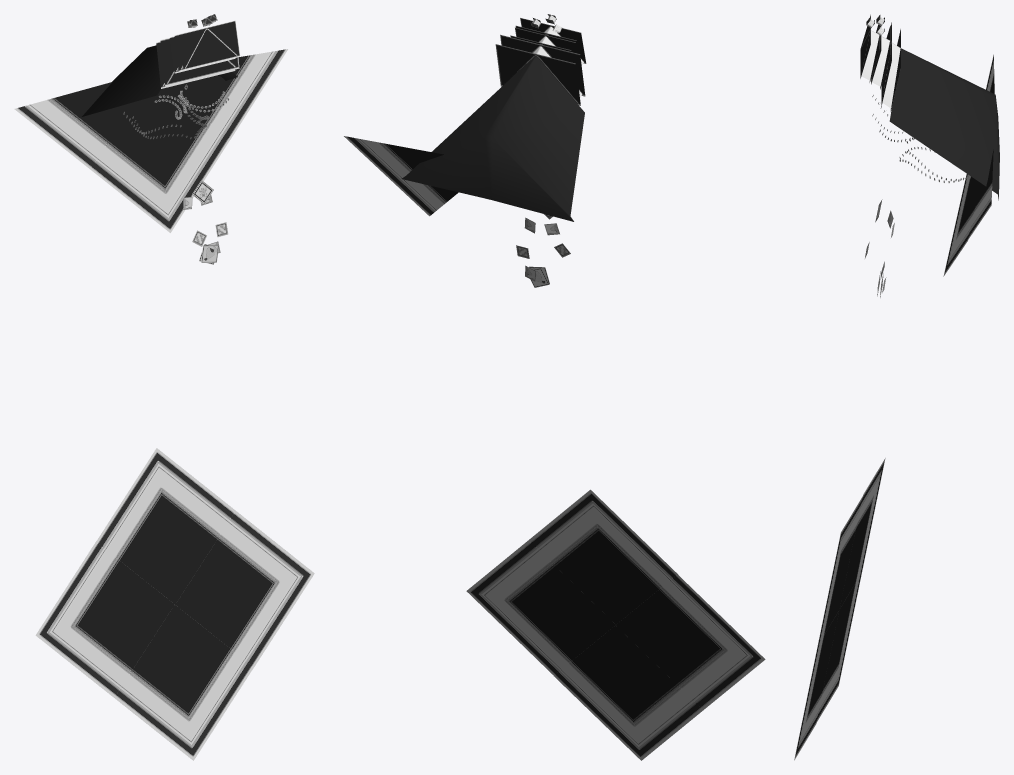
3 views of the same model, side by side, from view 1: azimuth 30°, elevation 25°; view 2: azimuth 150°, elevation 25°; view 3: azimuth 270°, elevation 25° (orthographic). The views are drawn at different scales.
Visible parts, largest first — view 1: bordo_01.1 (×2), bordo_01 (×2), bordo_01.3 (×2), bordo_01.2, nero, topgrande2, topgrande2.4; view 2: nero, bordo_01.3 (×2), bordo_01, bordo_01.1, bordo_01.2, topgrande2.5, topgrande2.4; view 3: nero, bordo_01.1 (×2), bordo_01.3 (×2), bordo_01.2, bordo_01, no_alpha.2, no_alpha.1, no_alpha.
Boxes of the visible parts, x1,y1,x2,y2 form: bordo_01.1 (×2): (90, 88, 253, 760); bordo_01 (×2): (14, 82, 174, 697); bordo_01.3 (×2): (166, 49, 314, 666); bordo_01.2: (96, 448, 235, 604); nero: (82, 45, 237, 116); topgrande2: (179, 20, 240, 70); topgrande2.4: (160, 38, 239, 86); nero: (401, 56, 584, 221); bordo_01.3 (×2): (344, 136, 615, 675); bordo_01: (615, 574, 765, 709); bordo_01.1: (554, 625, 703, 760); bordo_01.2: (529, 489, 677, 624); topgrande2.5: (495, 44, 580, 105); topgrande2.4: (500, 34, 585, 96); nero: (889, 48, 999, 200); bordo_01.1 (×2): (794, 174, 980, 760); bordo_01.3 (×2): (816, 149, 993, 722); bordo_01.2: (839, 458, 885, 608); bordo_01: (817, 497, 862, 645); no_alpha.2: (882, 42, 900, 108); no_alpha.1: (872, 36, 889, 86); no_alpha: (861, 30, 879, 80).
Size of the model in its own units: 1738 by 3637 by 883.
13 materials, 11 textured.
